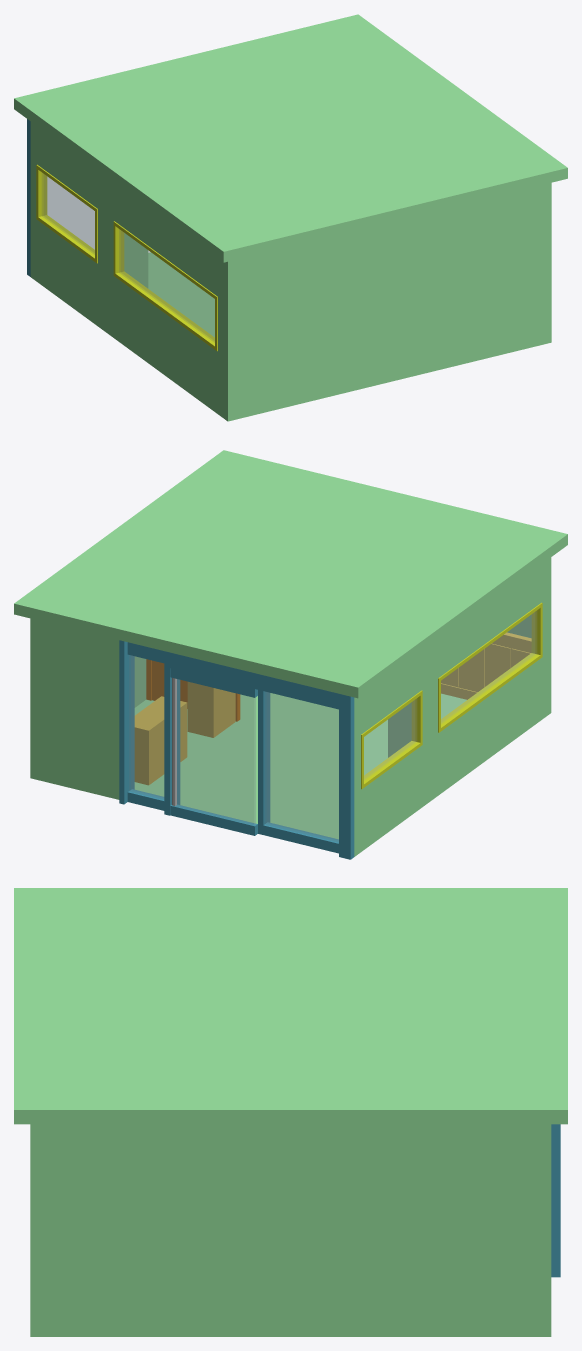
The model's file is restaurant.fbx.
The picture shows the model from 3 angles, top to bottom: view 1: azimuth 30°, elevation 25°; view 2: azimuth 150°, elevation 25°; view 3: azimuth 270°, elevation 25°; orthographic projection. The views are drawn at different scales.
Visible parts, largest first — view 1: _restaurant; view 2: _restaurant, door, wall, cube01, cube02, Partitions; view 3: _restaurant.
Part boxes in pixels (x1,y1,x2,y2): _restaurant: (14, 14, 567, 421); _restaurant: (14, 450, 567, 859); door: (170, 668, 257, 835); wall: (441, 632, 531, 699); cube01: (134, 696, 187, 785); cube02: (187, 682, 235, 737); Partitions: (146, 659, 240, 721); _restaurant: (14, 888, 567, 1336).
Size of the model in its own units: 1316 by 646 by 1389.
